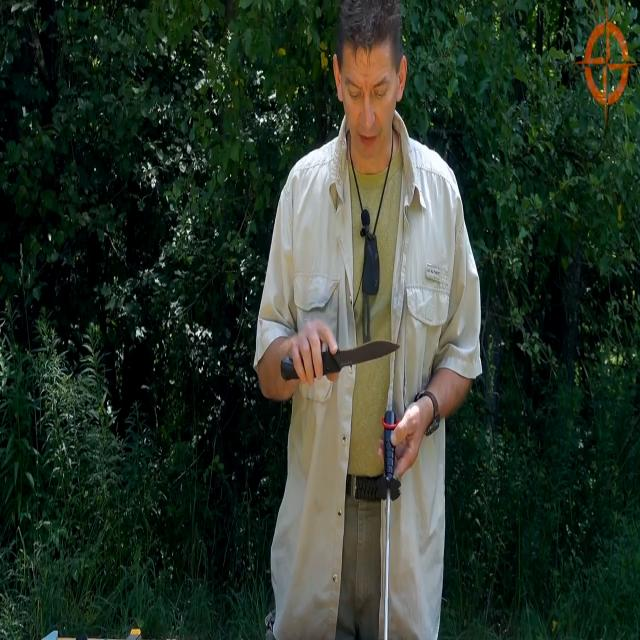knife: (279, 340, 405, 383)
